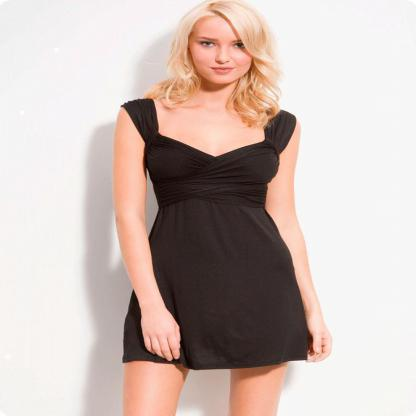long-hair: (145, 84, 288, 116)
